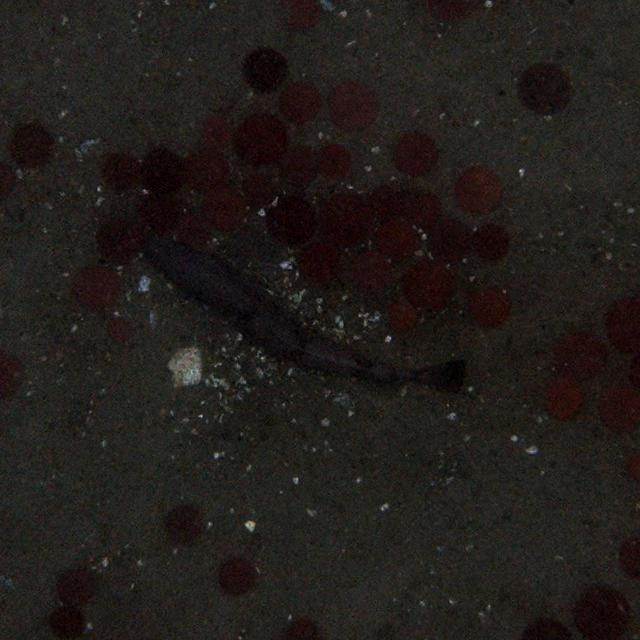roundfish: (151, 242, 468, 404)
